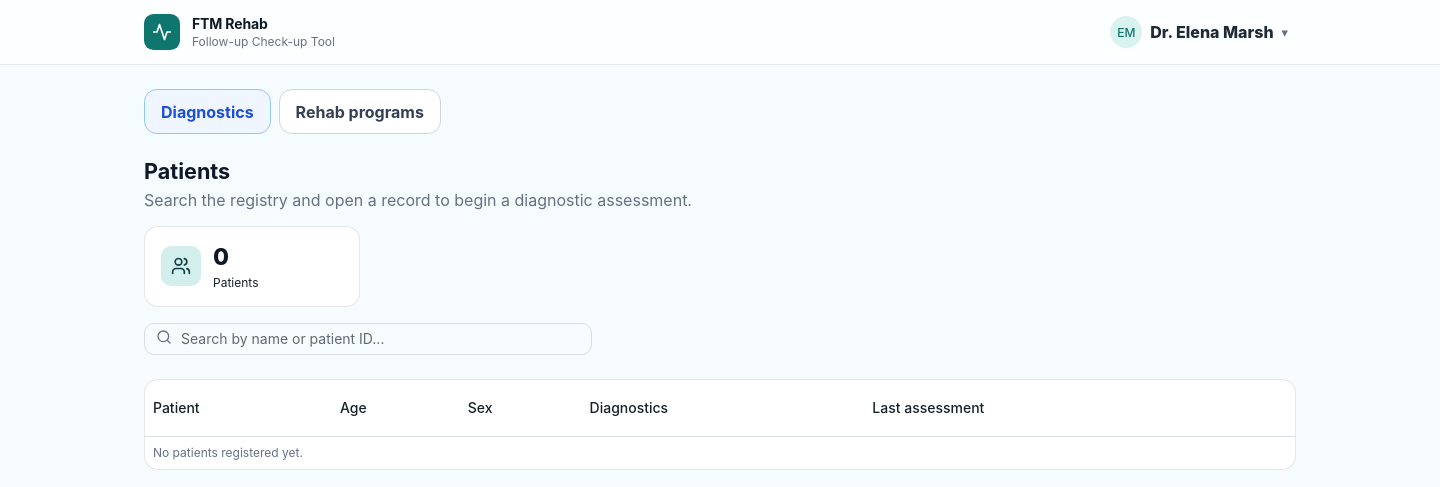
Test: UC-01 medical access shell › GIVEN a medical user WHEN using top-level navigation THEN opens rehab programs
Click the button "Rehab programs". click: (360, 112)
box: x1=279 y1=89 x2=441 y2=134
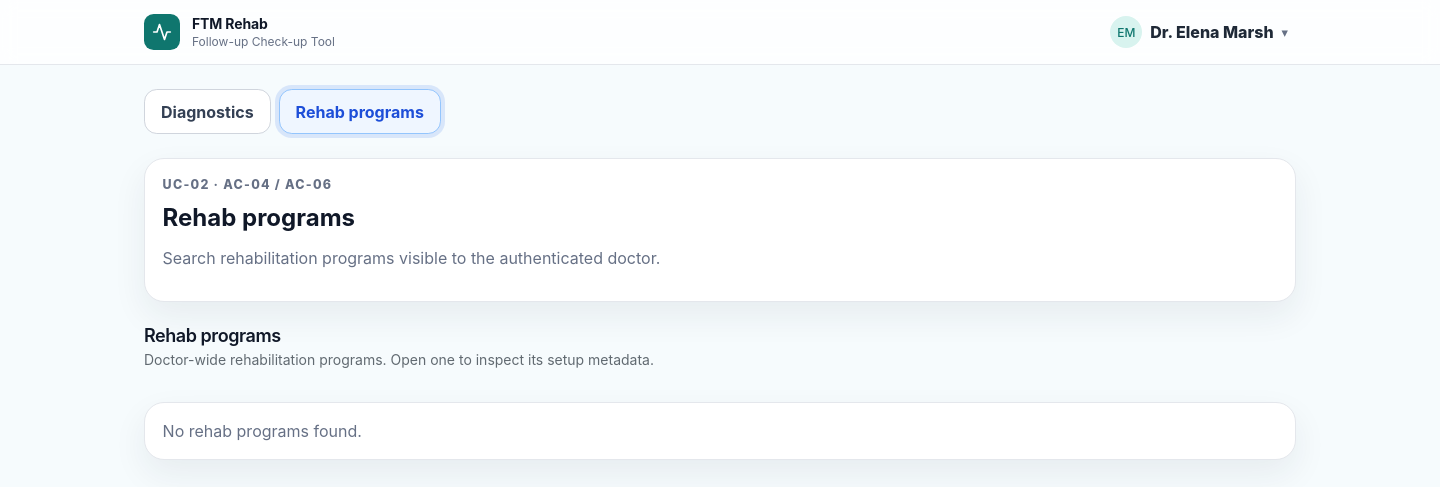
Expected: the heading "Rehab programs" below "UC-02 · AC-04 / AC-06" is shown, x1=163 y1=203 x2=355 y2=232
